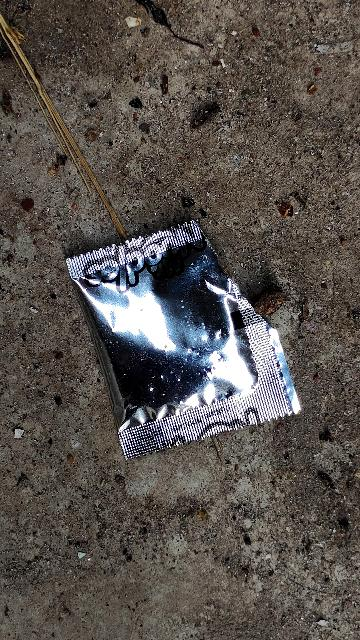packet: (76, 244, 302, 448)
